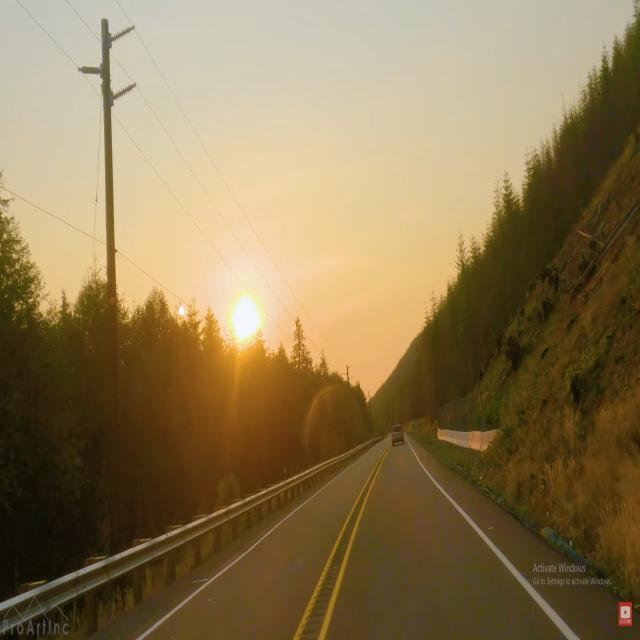sun: (226, 286, 268, 351)
